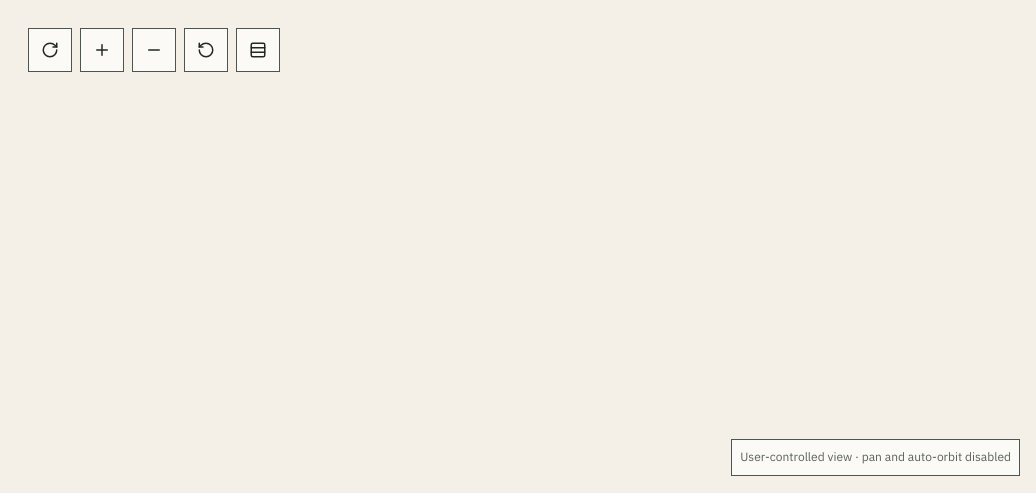
Scenario: prepared scene canvas resilience › derives its semantic equivalent from the canonical scene
Click the button named "Open semantic scene": point(258, 50) [236,28,280,72]
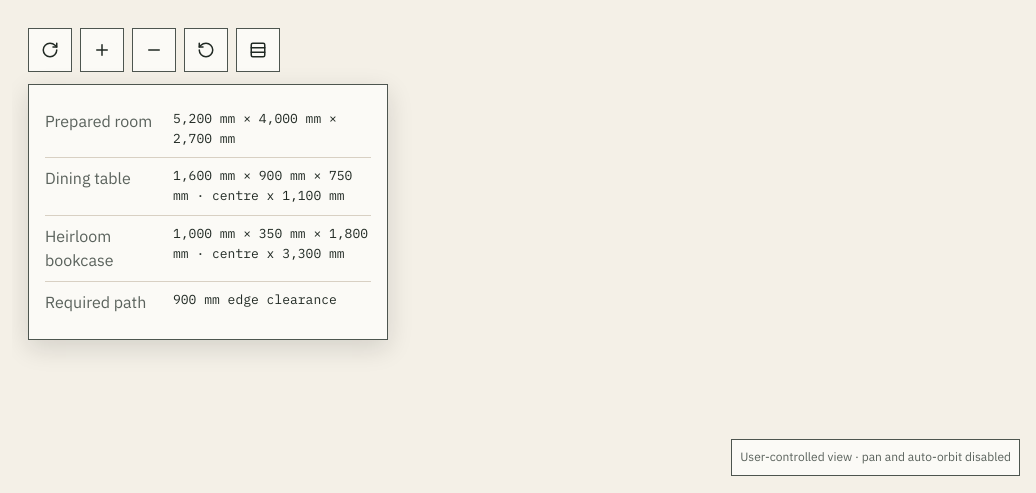
Expected: the text "1,600 mm × 900 mm × 750 mm · centre x 1,100 mm" is shown, [173,166,371,207]
Expected: the text "5,200 mm × 4,000 mm × 2,700 mm" is shown, [173,110,337,147]
Expected: the text "900 mm edge clearance" is shown, [173,291,337,308]
